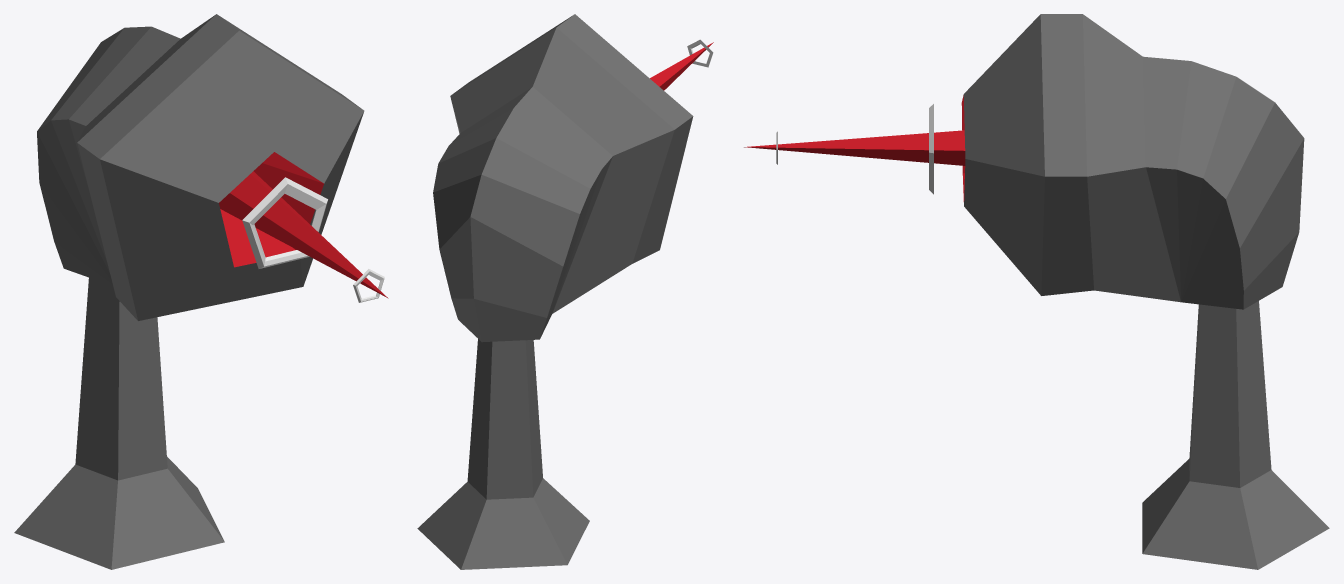
Rendered from laser.fbx.
The picture shows the model from 3 angles, left to right: view 1: azimuth 30°, elevation 25°; view 2: azimuth 150°, elevation 25°; view 3: azimuth 270°, elevation 25°; orthographic projection. The views are drawn at different scales.
Visible parts, largest first — view 1: Circle_001; view 2: Circle_001; view 3: Circle_001.
Part boxes in pixels (x1,y1,x2,y2): Circle_001: (14,14,388,569); Circle_001: (417,14,713,569); Circle_001: (744,14,1329,569).
Size of the model in its own units: 2.79 by 5.56 by 5.66.
